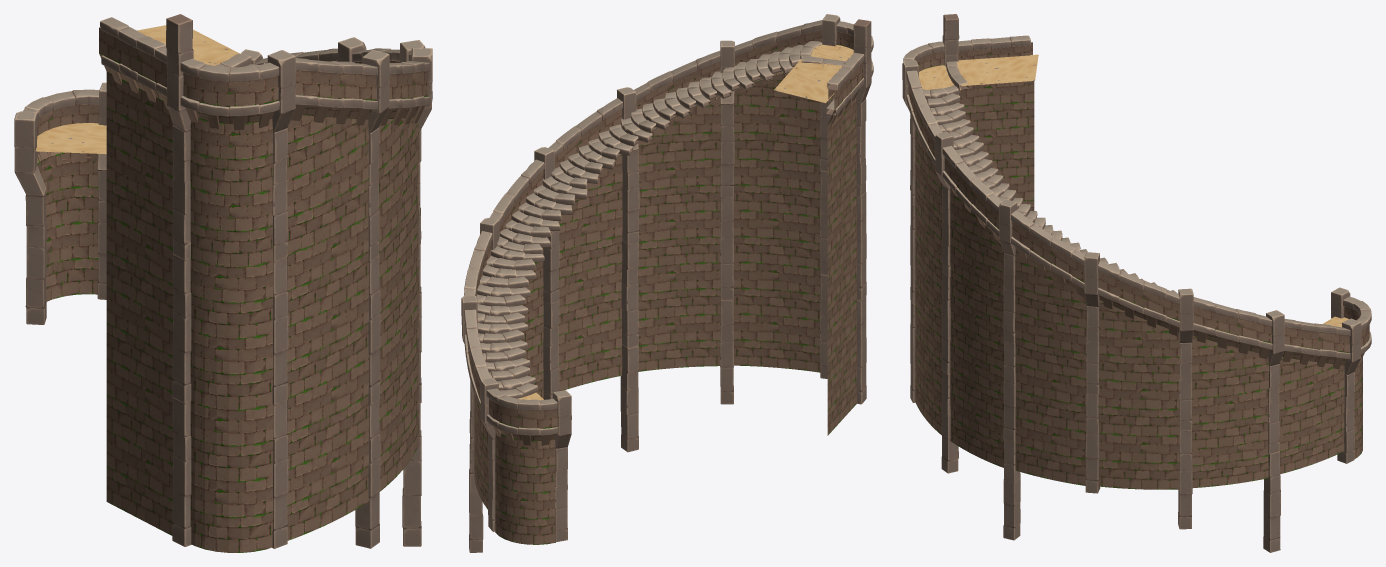
The model's file is SM_Arena_Stairs.fbx.
3 renders of one model, left to right at view 1: azimuth 30°, elevation 25°; view 2: azimuth 150°, elevation 25°; view 3: azimuth 270°, elevation 25°, orthographic. The views are drawn at different scales.
Parts seen in each view (by area): view 1: polySurface1555, polySurface1556, polySurface1562, polySurface1557, Pillar_low20, Pillar_low26, polySurface1554, Pillar_low66, Pillar_low55, group13_Pillar_low28, polySurface1552, polySurface1551 (+11 smaller); view 2: polySurface1556, polySurface1557, polySurface1558, polySurface1562, polySurface1554, group13_Pillar_low28, Pillar_low66, Pillar_low20, Stairs_Bent5, Stairs_Bent4, Stairs_Bent6, polySurface1104 (+24 smaller); view 3: polySurface1558, polySurface1559, polySurface1557, polySurface1560, polySurface1556, polySurface1561, polySurface1562, group13_Pillar_low28, Pillar_low66, group14_Pillar_low53, polySurface1104, group14_Pillar_low28 (+21 smaller).
Boxes of the visible parts, x1=… form: polySurface1555: x1=190, y1=118, x2=273, y2=552; polySurface1556: x1=287, y1=115, x2=368, y2=540; polySurface1562: x1=106, y1=72, x2=173, y2=535; polySurface1557: x1=378, y1=117, x2=418, y2=490; Pillar_low20: x1=166, y1=14, x2=193, y2=546; Pillar_low26: x1=267, y1=50, x2=295, y2=548; polySurface1554: x1=37, y1=152, x2=98, y2=301; Pillar_low66: x1=355, y1=50, x2=389, y2=548; Pillar_low55: x1=14, y1=111, x2=46, y2=324; group13_Pillar_low28: x1=402, y1=48, x2=432, y2=546; polySurface1552: x1=183, y1=72, x2=278, y2=130; polySurface1551: x1=291, y1=70, x2=376, y2=125; polySurface1556: x1=733, y1=73, x2=820, y2=372; polySurface1557: x1=638, y1=96, x2=720, y2=371; polySurface1558: x1=558, y1=154, x2=622, y2=390; polySurface1562: x1=827, y1=96, x2=856, y2=435; polySurface1554: x1=495, y1=432, x2=555, y2=544; group13_Pillar_low28: x1=617, y1=87, x2=639, y2=452; Pillar_low66: x1=720, y1=40, x2=734, y2=404; Pillar_low20: x1=853, y1=19, x2=871, y2=404; Stairs_Bent5: x1=476, y1=246, x2=544, y2=324; Stairs_Bent4: x1=497, y1=176, x2=587, y2=253; Stairs_Bent6: x1=477, y1=322, x2=537, y2=398; polySurface1104: x1=534, y1=147, x2=559, y2=399; polySurface1558: x1=1015, y1=249, x2=1086, y2=485; polySurface1559: x1=1098, y1=300, x2=1179, y2=489; polySurface1557: x1=950, y1=187, x2=1003, y2=467; polySurface1560: x1=1192, y1=335, x2=1268, y2=487; polySurface1556: x1=915, y1=128, x2=942, y2=435; polySurface1561: x1=1279, y1=357, x2=1344, y2=474; polySurface1562: x1=959, y1=81, x2=1034, y2=210; group13_Pillar_low28: x1=998, y1=199, x2=1020, y2=540; Pillar_low66: x1=934, y1=131, x2=958, y2=473; group14_Pillar_low53: x1=1263, y1=310, x2=1284, y2=552; polySurface1104: x1=1084, y1=252, x2=1100, y2=493; group14_Pillar_low28: x1=1178, y1=288, x2=1193, y2=529.
Bounding box in the file's own units: 2.72 × 4.36 × 4.29.
